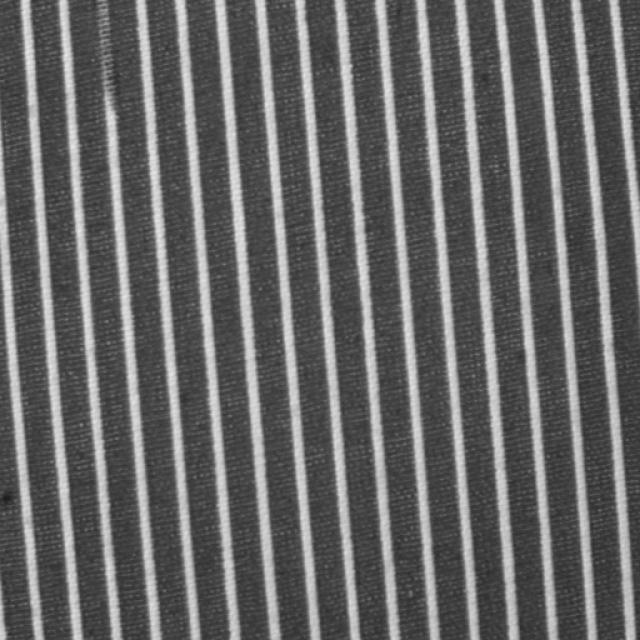Stain-Defect: (90, 1, 120, 115)
